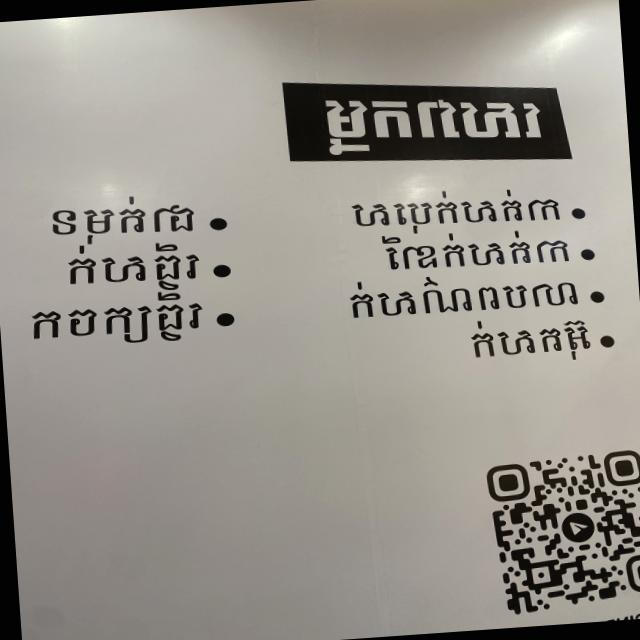Yolov11_80vkh: (317, 90, 546, 159), (345, 267, 580, 326), (342, 185, 565, 238), (30, 287, 207, 353), (369, 227, 572, 278), (46, 189, 202, 250), (56, 241, 213, 297), (460, 310, 601, 369)
